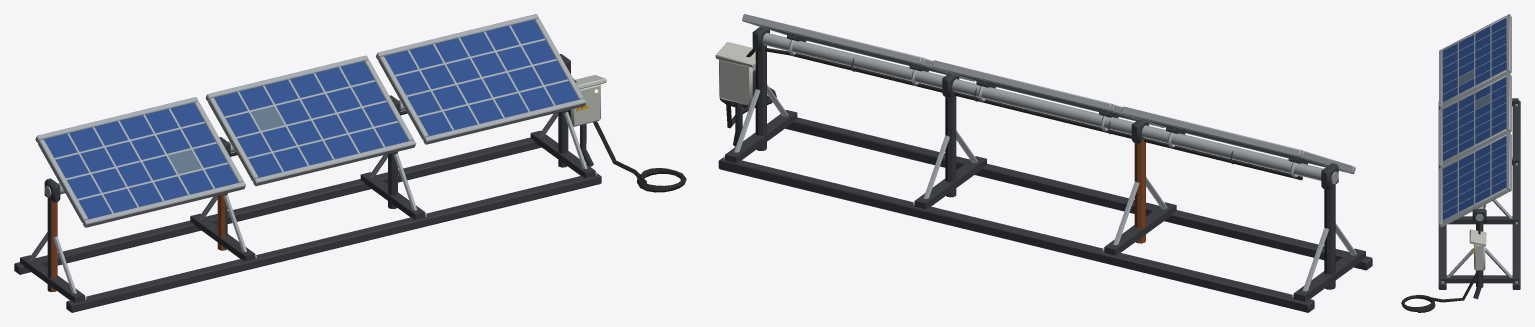
The model's file is deco_solar_array.fbx.
3 views of the same model, side by side, from view 1: azimuth 30°, elevation 25°; view 2: azimuth 150°, elevation 25°; view 3: azimuth 270°, elevation 25° (orthographic). The views are drawn at different scales.
Parts seen in each view (by area): view 1: Solar_Array_Frame, Solar_Array_PanelM, Solar_Array_PanelL, Solar_Array_PanelR, Solar_Array_Junction; view 2: Solar_Array_Frame, Solar_Array_Junction, Solar_Array_PanelL, Solar_Array_PanelM, Solar_Array_PanelR; view 3: Solar_Array_PanelR, Solar_Array_PanelL, Solar_Array_PanelM, Solar_Array_Frame, Solar_Array_Junction.
Part boxes in pixels (x1=…): Solar_Array_Frame: x1=14, y1=54, x2=601, y2=312; Solar_Array_PanelM: x1=205, y1=55, x2=416, y2=186; Solar_Array_PanelL: x1=35, y1=97, x2=245, y2=227; Solar_Array_PanelR: x1=376, y1=14, x2=586, y2=144; Solar_Array_Junction: x1=230, y1=75, x2=686, y2=192; Solar_Array_Frame: x1=718, y1=27, x2=1372, y2=312; Solar_Array_Junction: x1=715, y1=42, x2=1302, y2=180; Solar_Array_PanelL: x1=1121, y1=106, x2=1355, y2=178; Solar_Array_PanelM: x1=931, y1=60, x2=1164, y2=131; Solar_Array_PanelR: x1=742, y1=14, x2=974, y2=85; Solar_Array_PanelR: x1=1439, y1=132, x2=1511, y2=227; Solar_Array_PanelL: x1=1439, y1=14, x2=1511, y2=108; Solar_Array_PanelM: x1=1439, y1=73, x2=1511, y2=167; Solar_Array_Frame: x1=1438, y1=98, x2=1520, y2=289; Solar_Array_Junction: x1=1401, y1=224, x2=1486, y2=312.
Bounding box in the file's own units: 597 × 136 × 145.
